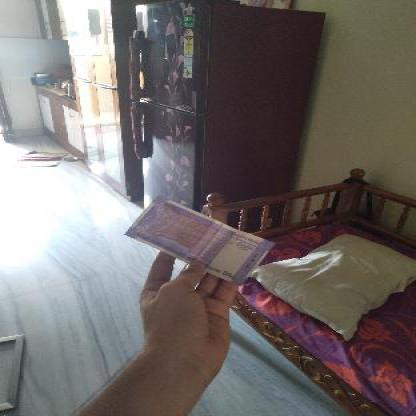New100Back: (123, 194, 269, 282)
